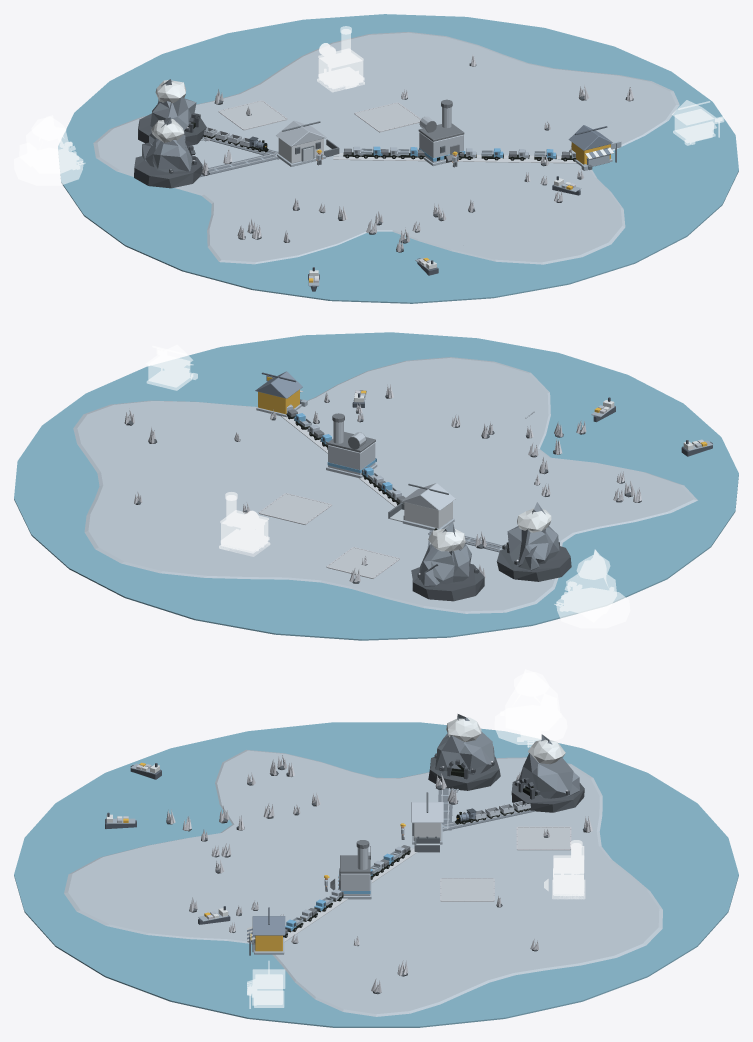
File: Island_Silver.fbx
The picture shows the model from 3 angles, top to bottom: view 1: azimuth 30°, elevation 25°; view 2: azimuth 150°, elevation 25°; view 3: azimuth 270°, elevation 25°; orthographic projection. The views are drawn at different scales.
Visible parts, largest first — view 1: isle_Silver, lagoon_Silver, ghost_mine.003, mine_Silver.001, mine_Silver, ghost_refinery.003, refinery.003, storage.003, ghost_market.003, market.003, pad_expand.007, pad_expand.006 (+1 smaller); view 2: isle_Silver, lagoon_Silver, mine_Silver.001, mine_Silver, ghost_mine.003, storage.003, ghost_refinery.003, refinery.003, ghost_market.003, market.003, pad_expand.007, pad_expand.006; view 3: isle_Silver, lagoon_Silver, mine_Silver.001, ghost_mine.003, mine_Silver, ghost_refinery.003, refinery.003, storage.003, market.003, ghost_market.003, pad_expand.006, pad_expand.007.
Boxes of the visible parts, bbox=[...] form: isle_Silver: bbox=[93, 32, 679, 264]; lagoon_Silver: bbox=[58, 14, 738, 303]; ghost_mine.003: bbox=[14, 115, 85, 185]; mine_Silver.001: bbox=[134, 117, 202, 188]; mine_Silver: bbox=[138, 79, 209, 146]; ghost_refinery.003: bbox=[317, 26, 364, 92]; refinery.003: bbox=[418, 99, 465, 165]; storage.003: bbox=[276, 120, 339, 166]; ghost_market.003: bbox=[672, 100, 724, 145]; market.003: bbox=[568, 125, 621, 170]; pad_expand.007: bbox=[354, 102, 421, 132]; pad_expand.006: bbox=[218, 100, 287, 130]; isle_Silver: bbox=[73, 357, 697, 613]; lagoon_Silver: bbox=[14, 332, 738, 640]; mine_Silver.001: bbox=[496, 502, 571, 581]; mine_Silver: bbox=[411, 523, 484, 601]; ghost_mine.003: bbox=[554, 549, 630, 628]; storage.003: bbox=[388, 483, 455, 530]; ghost_refinery.003: bbox=[219, 492, 270, 556]; refinery.003: bbox=[326, 413, 377, 478]; ghost_market.003: bbox=[146, 345, 197, 390]; market.003: bbox=[255, 371, 307, 417]; pad_expand.007: bbox=[258, 493, 331, 524]; pad_expand.006: bbox=[326, 547, 399, 578]; isle_Silver: bbox=[64, 749, 662, 1016]; lagoon_Silver: bbox=[14, 722, 738, 1027]; mine_Silver.001: bbox=[428, 714, 500, 792]; ghost_mine.003: bbox=[494, 669, 567, 747]; mine_Silver: bbox=[511, 734, 584, 812]; ghost_refinery.003: bbox=[544, 840, 585, 899]; refinery.003: bbox=[330, 840, 371, 899]; storage.003: bbox=[411, 792, 443, 852]; market.003: bbox=[247, 907, 285, 955]; ghost_market.003: bbox=[247, 961, 285, 1008]; pad_expand.006: bbox=[516, 826, 571, 850]; pad_expand.007: bbox=[440, 878, 494, 901].
Bounding box in the file's own units: 152 × 20.2 × 149.
